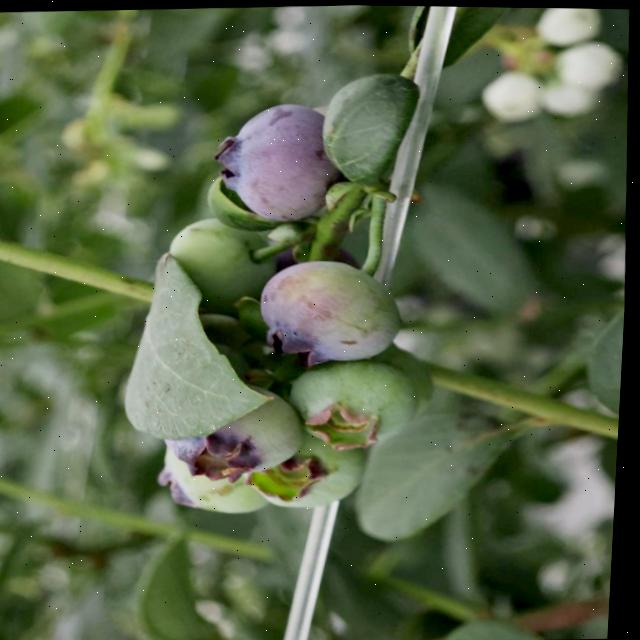Semi-RipeBlueBerry: (257, 255, 409, 365), (217, 98, 340, 220)
UnripeBlueBerry: (289, 358, 424, 451)
